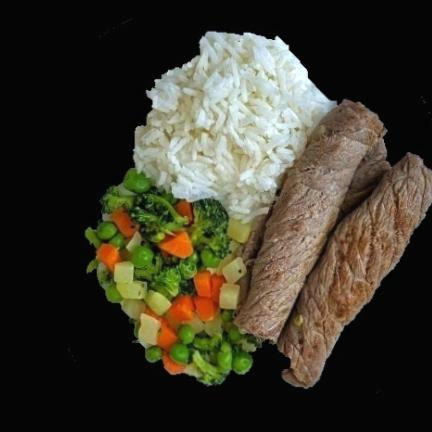broccoli: (85, 167, 231, 298)
carrot: (142, 269, 224, 373)
meat: (235, 100, 431, 386)
peas: (144, 323, 250, 372)
rice: (133, 32, 333, 220)
